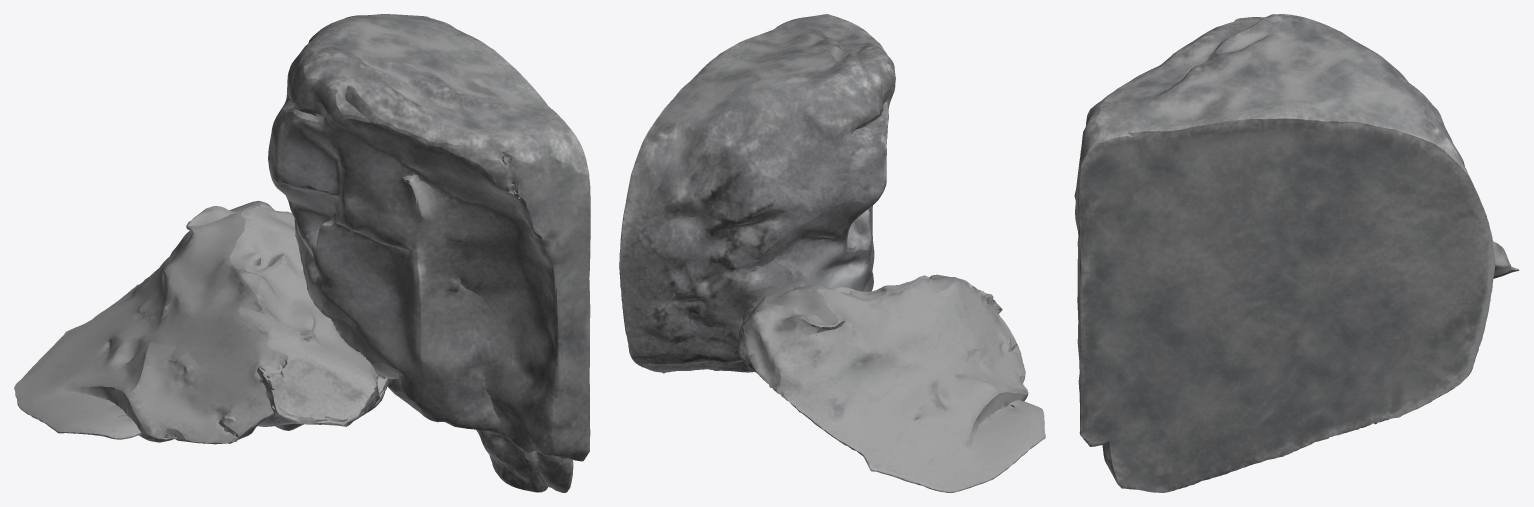
3 views of the same model, side by side, from view 1: azimuth 30°, elevation 25°; view 2: azimuth 150°, elevation 25°; view 3: azimuth 270°, elevation 25° (orthographic). The views are drawn at different scales.
Visible parts, largest first — view 1: world; view 2: world; view 3: world.
Boxes of the visible parts, left/top/right/bottom form: world: left=14, top=14, right=590, bottom=492; world: left=619, top=14, right=1045, bottom=492; world: left=1074, top=14, right=1519, bottom=492.
Size of the model in its own units: 50 by 49.93 by 49.56.
1 material, 1 textured.
